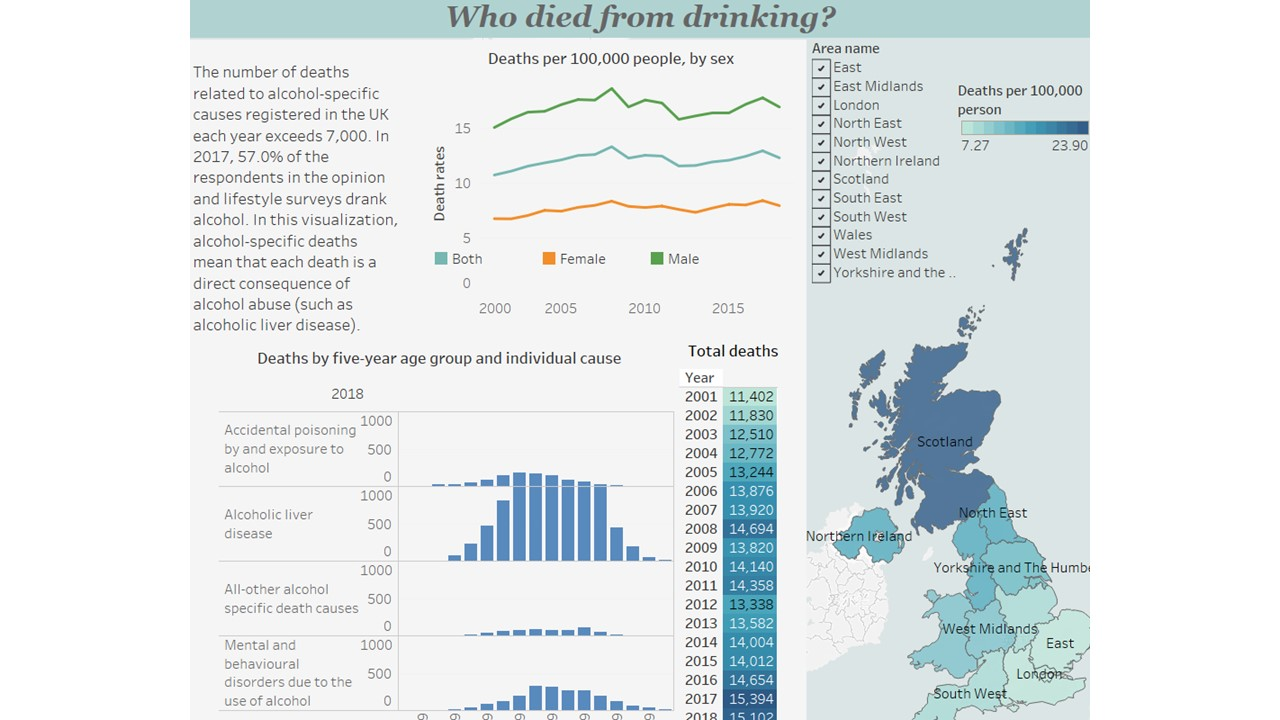

The page's visual inventory and layout, read from the dashboard file:
{"tool":"tableau","page":{"name":"final-Dashboard3 ","canvas":[1000,800],"ordinal":0},"visuals":[{"type":"filter","title":"death rate map","param":"[federated.12m8ady1sfxgfk1511dqv1oijmrs].[none:Area name:nk]","box":[682,37,162,177]},{"type":"text","box":[0,44,236,339]},{"type":"worksheet","title":"death rate by sex","mark":"Automatic","rows":["Rate"],"cols":["Year"],"box":[259,46,414,309]},{"type":"legend","title":"death rate map","param":"[federated.12m8ady1sfxgfk1511dqv1oijmrs].[avg:Rate:qk]","box":[850,46,150,89]},{"type":"legend","title":"death rate by sex","param":"[federated.12m8ady1sfxgfk1511dqv1oijmrs].[none:Sex:nk]","box":[269,277,444,25]},{"type":"text","box":[550,374,108,30]},{"type":"text","box":[11,375,532,44]},{"type":"filter","title":"causes and age distribution-2","param":"[federated.1yf79hn05comuz152awnm1snrglv].[none:Year:ok]","box":[155,427,210,30]}]}

Visuals, with their boxes on the page's 1000x800 design canvas (x1, y1, x2, y2). These are canvas units, not pixel positions in the 1280x720 screenshot, which may show the page scaled, cropped or inside an application window:
"death rate map" filter: x1=682 y1=37 x2=844 y2=214
text: x1=0 y1=44 x2=236 y2=383
"death rate by sex" worksheet: x1=259 y1=46 x2=673 y2=355
"death rate map" legend: x1=850 y1=46 x2=1000 y2=135
"death rate by sex" legend: x1=269 y1=277 x2=713 y2=302
text: x1=550 y1=374 x2=658 y2=404
text: x1=11 y1=375 x2=543 y2=419
"causes and age distribution-2" filter: x1=155 y1=427 x2=365 y2=457
